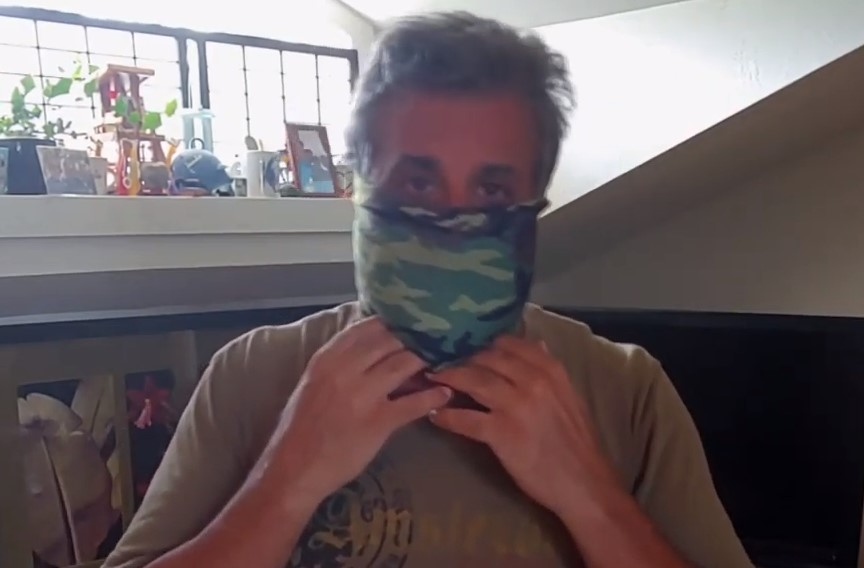face_with_mask: (350, 33, 553, 357)
